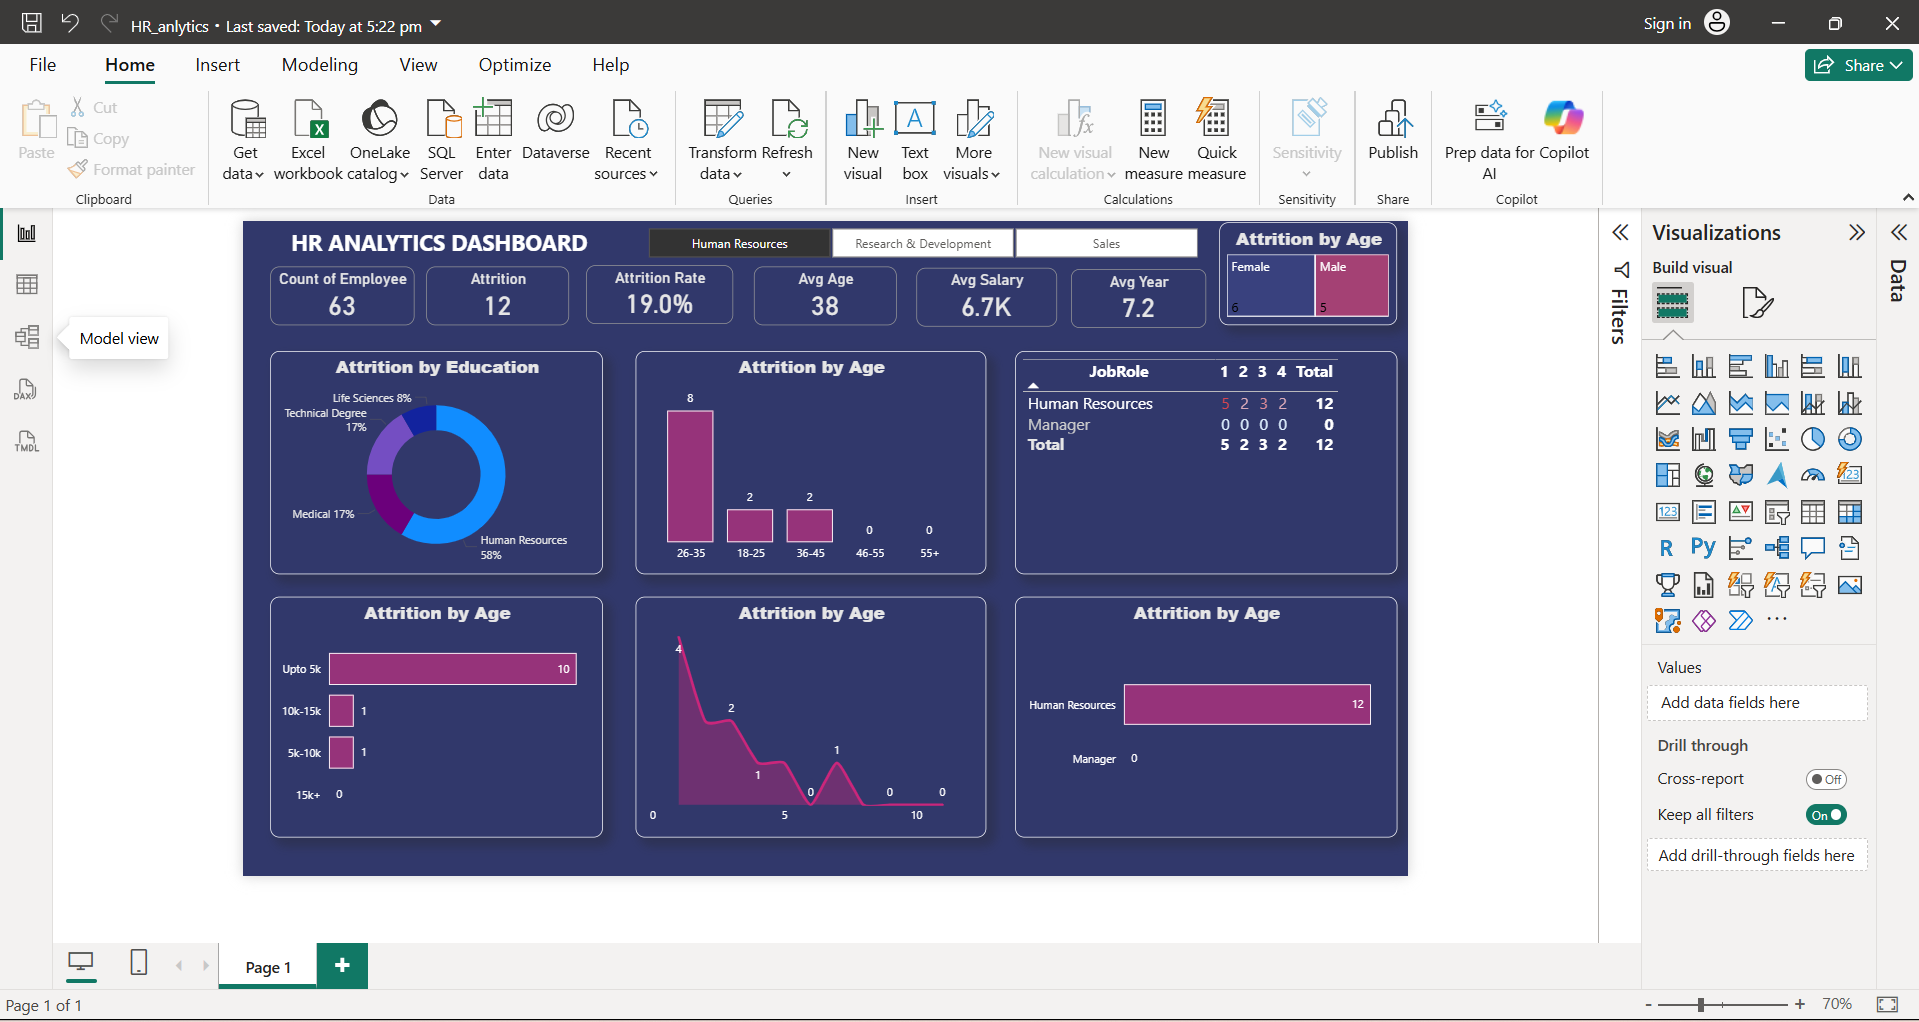

What the dashboard file says about the page in this screenshot:
{"tool":"powerbi","page":{"name":"Page 1","canvas":[1280,720],"ordinal":0},"visuals":[{"type":"card","title":"Count of Employee","fields":{"Values":["CountNonNull(HR_Analytics.EmpID)"]},"box":[30,50,158.6,64.3],"z":0},{"type":"card","title":"Attrition","fields":{"Values":["Sum(HR_Analytics.Attrition_Count)"]},"box":[201.4,50,157.1,64.3],"z":1000},{"type":"card","title":"Attrition Rate","fields":{"Values":["HR_Analytics.AttritionRate"]},"box":[377.1,48.6,161.4,64.3],"z":2000},{"type":"card","title":"Avg Age","fields":{"Values":["Avg(HR_Analytics.Age)"]},"box":[561.4,50,157.1,64.3],"z":3000},{"type":"card","title":"Avg Salary","fields":{"Values":["Avg(HR_Analytics.MonthlyIncome)"]},"box":[740,51.4,154.3,64.3],"z":4000},{"type":"card","title":"Avg Year","fields":{"Values":["Avg(HR_Analytics.YearsAtCompany)"]},"box":[910,52.9,148.6,64.3],"z":5000},{"type":"donutChart","title":"Attrition by Education","fields":{"Category":["HR_Analytics.EducationField"],"Y":["Sum(HR_Analytics.Attrition_Count)"]},"box":[30,142.9,365.7,245.7],"z":6000},{"type":"columnChart","title":"Attrition by Age","fields":{"Category":["HR_Analytics.AgeGroup"],"Y":["Sum(HR_Analytics.Attrition_Count)"]},"box":[431.4,142.9,385.7,245.7],"z":7000},{"type":"pivotTable","fields":{"Rows":["HR_Analytics.JobRole"],"Columns":["HR_Analytics.JobSatisfaction"],"Values":["Sum(HR_Analytics.Attrition_Count)"]},"box":[848.6,142.9,420,245.7],"z":8000},{"type":"clusteredBarChart","title":"Attrition by Age","fields":{"Category":["HR_Analytics.SalarySlab"],"Y":["Sum(HR_Analytics.Attrition_Count)"]},"box":[30,412.9,365.7,264.3],"z":9000},{"type":"clusteredBarChart","title":"Attrition by Age","fields":{"Category":["HR_Analytics.JobRole"],"Y":["Sum(HR_Analytics.Attrition_Count)"]},"box":[848.6,412.9,420,264.3],"z":10000},{"type":"areaChart","title":"Attrition by Age","fields":{"Category":["HR_Analytics.YearsAtCompany"],"Y":["Sum(HR_Analytics.Attrition_Count)"]},"box":[431.4,412.9,385.7,264.3],"z":11000},{"type":"treemap","title":"Attrition by Age","fields":{"Group":["HR_Analytics.Gender"],"Values":["Sum(HR_Analytics.Attrition_Count)"]},"box":[1072.9,1.4,195.7,112.9],"z":12000},{"type":"slicer","fields":{"Values":["HR_Analytics.Department"]},"box":[420,1.4,652.9,45.7],"z":13000},{"type":"textbox","box":[0,1.4,431.4,44.3],"z":14000}]}

Visuals, with their boxes on the page's 1280x720 design canvas (x1, y1, x2, y2). These are canvas units, not pixel positions in the 1919x1022 screenshot, which may show the page scaled, cropped or inside an application window:
"Count of Employee" card: <box>30,50,189,114</box>
"Attrition" card: <box>201,50,358,114</box>
"Attrition Rate" card: <box>377,49,538,113</box>
"Avg Age" card: <box>561,50,718,114</box>
"Avg Salary" card: <box>740,51,894,116</box>
"Avg Year" card: <box>910,53,1059,117</box>
"Attrition by Education" donutChart: <box>30,143,396,389</box>
"Attrition by Age" columnChart: <box>431,143,817,389</box>
pivotTable - HR_Analytics.JobRole x HR_Analytics.JobSatisfaction: <box>849,143,1269,389</box>
"Attrition by Age" clusteredBarChart: <box>30,413,396,677</box>
"Attrition by Age" clusteredBarChart: <box>849,413,1269,677</box>
"Attrition by Age" areaChart: <box>431,413,817,677</box>
"Attrition by Age" treemap: <box>1073,1,1269,114</box>
slicer - HR_Analytics.Department: <box>420,1,1073,47</box>
textbox: <box>0,1,431,46</box>
